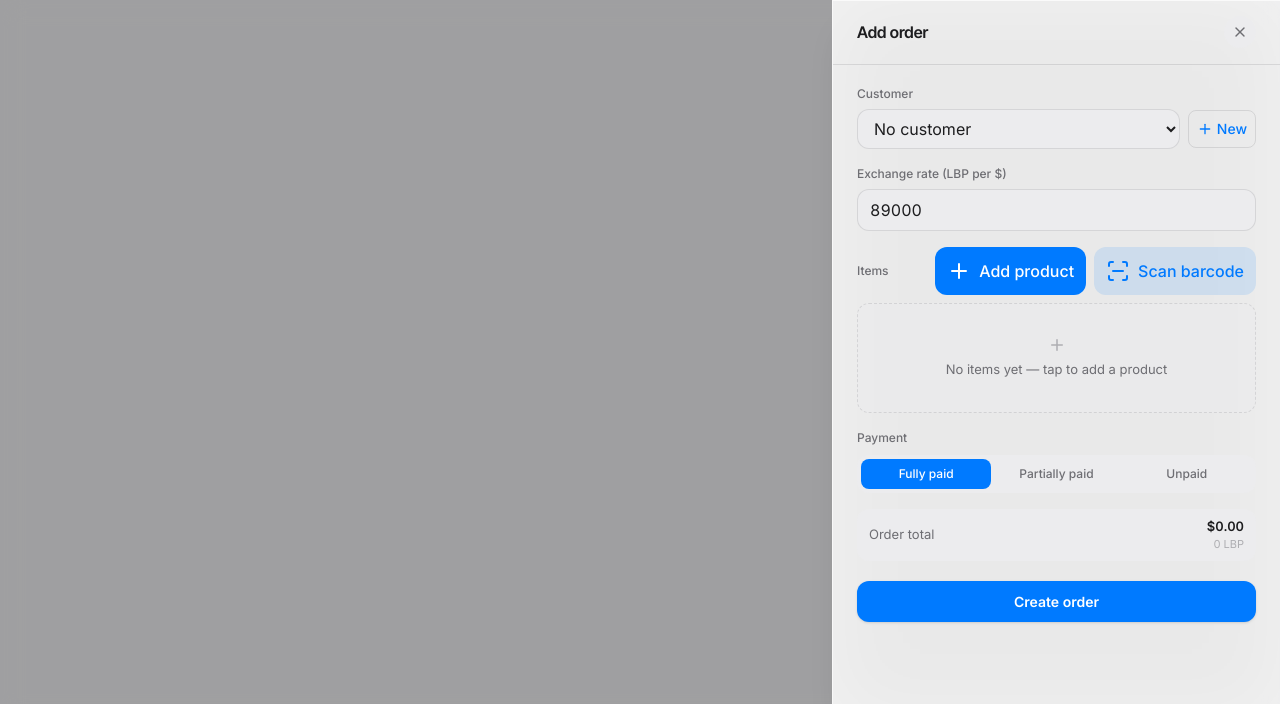
Test: payment controls › hides the amount field unless the payment is partial
The image size is (1280, 704).
Expected: the text "amount paid" is not shown
Step 1. Click the button "Partially paid" → (1056, 474), box x1=991 y1=458 x2=1122 y2=488
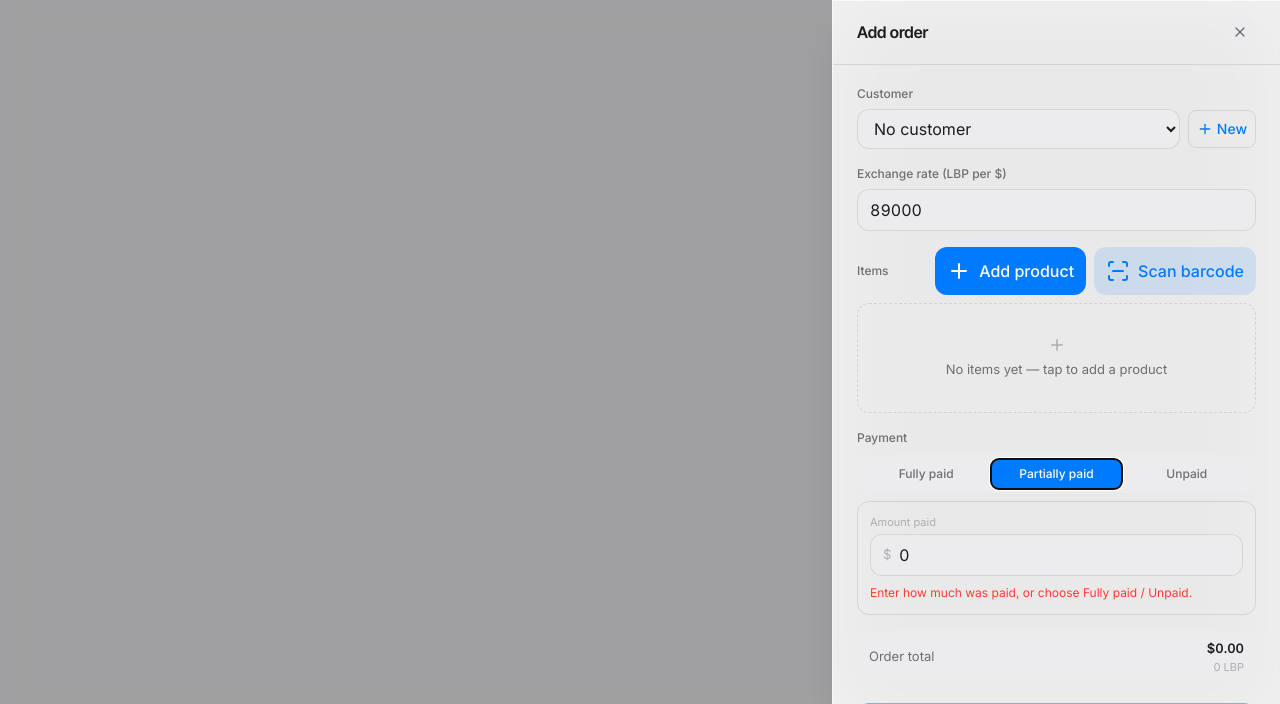
Expected: the text "Amount paid" is shown, x1=870 y1=514 x2=936 y2=528
Step 2. Click the button "Fully paid" → (926, 474), box x1=861 y1=458 x2=991 y2=488
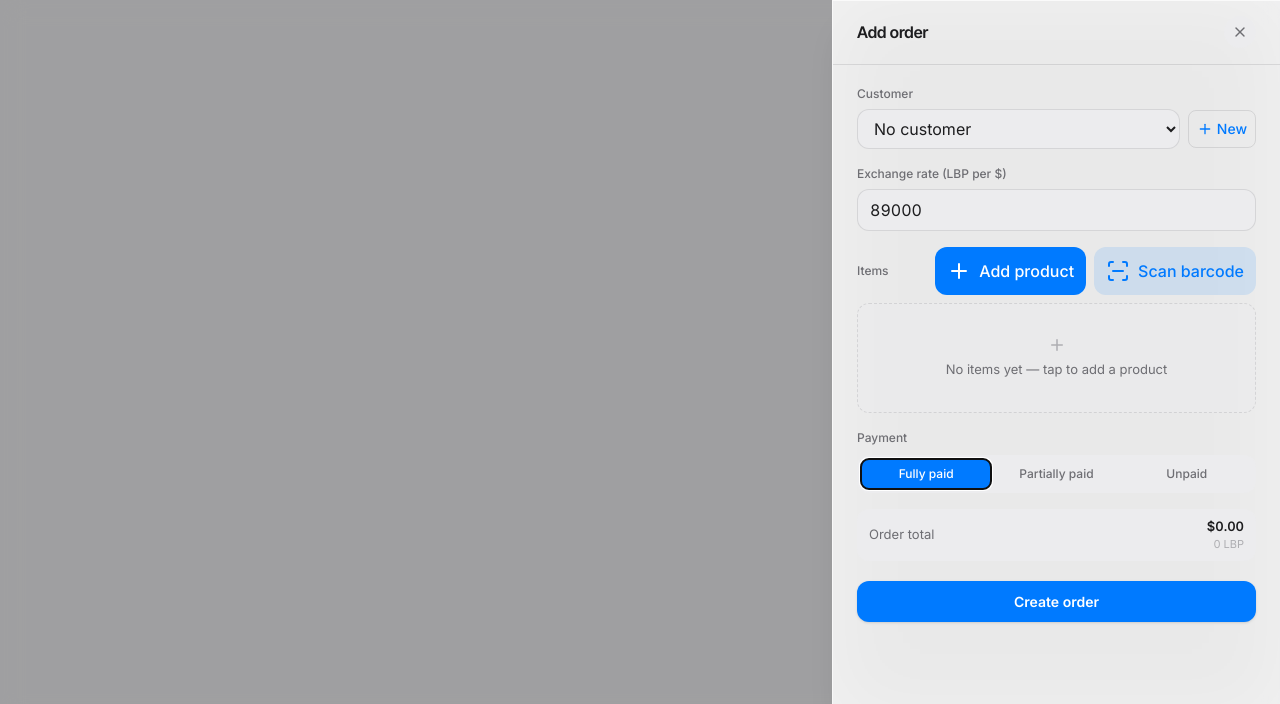
Expected: the text "Amount paid" is gone
